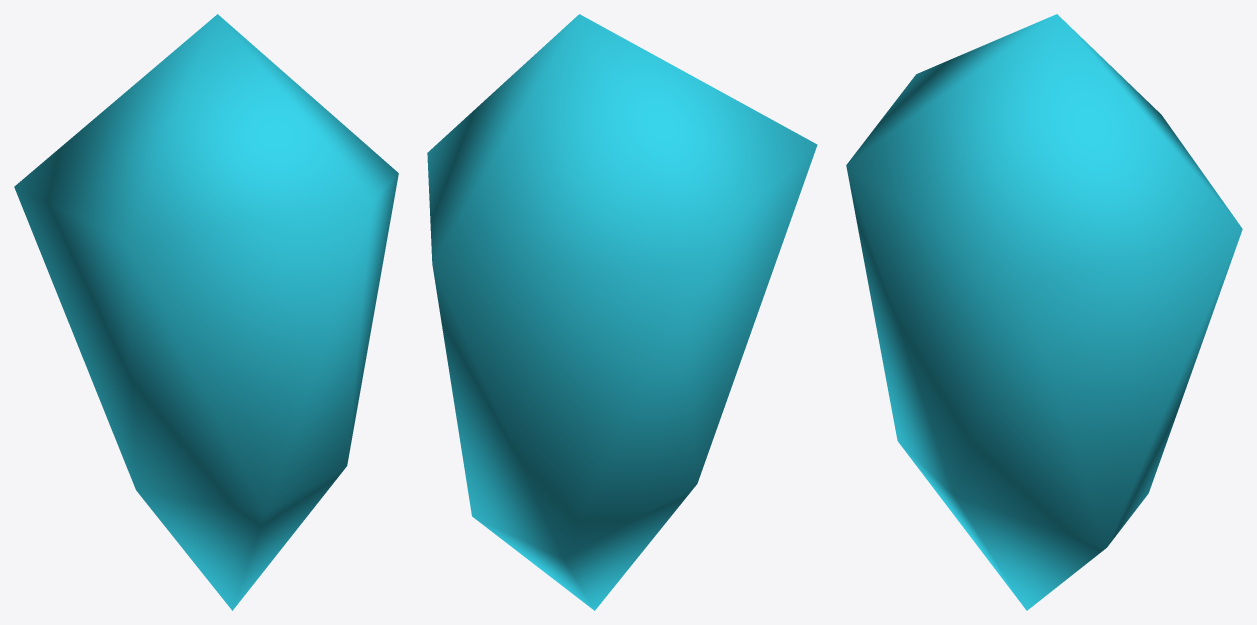
3 renders of one model, left to right at view 1: azimuth 30°, elevation 25°; view 2: azimuth 150°, elevation 25°; view 3: azimuth 270°, elevation 25°, orthographic. The views are drawn at different scales.
Visible parts, largest first — view 1: GeoSphere001; view 2: GeoSphere001; view 3: GeoSphere001.
Part boxes in pixels (left/top/right/bottom): GeoSphere001: left=14, top=14, right=398, bottom=610; GeoSphere001: left=427, top=14, right=817, bottom=610; GeoSphere001: left=846, top=14, right=1242, bottom=610.
Bounding box in the file's own units: 14.5 × 25.05 × 15.08.
